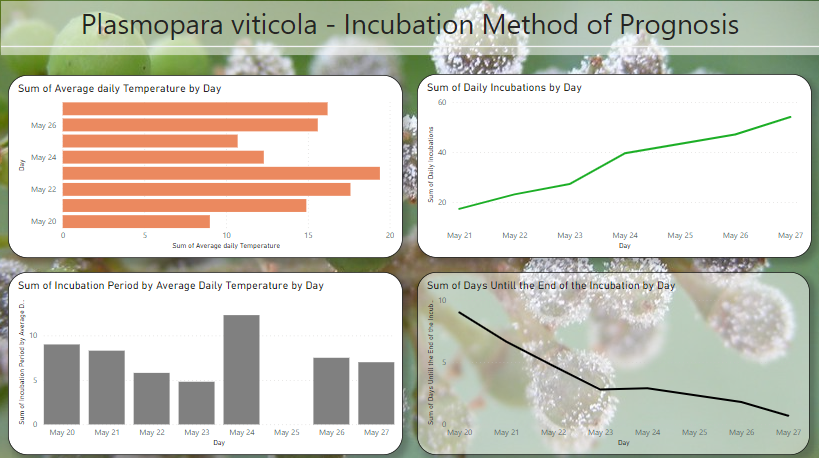

This screenshot's page, from the dashboard's own definition file:
{"tool":"powerbi","page":{"name":"Page 1","canvas":[1280,720],"ordinal":0},"visuals":[{"type":"columnChart","fields":{"Category":["Plasmopara viticola.Day"],"Y":["Sum(Plasmopara viticola.Incubation Period by Average Daily Temperature)"]},"box":[21.7,390,606.7,311.7],"z":5000},{"type":"lineChart","fields":{"Category":["Plasmopara viticola.Day"],"Y":["Sum(Plasmopara viticola.Days Untill the End of the Incubation)"]},"box":[655.5,390.5,606.3,312.7],"z":6000},{"type":"barChart","fields":{"Category":["Plasmopara viticola.Day"],"Y":["Sum(Plasmopara viticola.Average daily Temperature)"]},"box":[21,78.6,606.4,281.4],"z":7000},{"type":"lineChart","fields":{"Category":["Plasmopara viticola.Day"],"Y":["Sum(Plasmopara viticola.Sum of Daily Incubations)"]},"box":[653.3,78.3,608.3,281.7],"z":9000},{"type":"textbox","box":[0,1.7,1279.2,61.2],"z":15000},{"type":"shape","box":[10,70,626.7,300],"z":15002},{"type":"shape","box":[643.3,70,628.3,301.7],"z":15003},{"type":"shape","box":[11.7,380,625,331.7],"z":15004},{"type":"shape","box":[645,380,626.7,331.7],"z":15005}]}

Visuals, with their boxes in screenshot pixels (x1, y1, x2, y2), scaled from the page's 1280x720 canvas onto the 819x458 screenshot:
columnChart - Plasmopara viticola.Day x Sum(Plasmopara viticola.Incubation Period by Average Daily Temperature): (x1=14, y1=248, x2=402, y2=446)
lineChart - Plasmopara viticola.Day x Sum(Plasmopara viticola.Days Untill the End of the Incubation): (x1=419, y1=248, x2=807, y2=447)
barChart - Plasmopara viticola.Day x Sum(Plasmopara viticola.Average daily Temperature): (x1=13, y1=50, x2=401, y2=229)
lineChart - Plasmopara viticola.Day x Sum(Plasmopara viticola.Sum of Daily Incubations): (x1=418, y1=50, x2=807, y2=229)
textbox: (x1=0, y1=1, x2=818, y2=40)
shape: (x1=6, y1=45, x2=407, y2=235)
shape: (x1=412, y1=45, x2=814, y2=236)
shape: (x1=7, y1=242, x2=407, y2=453)
shape: (x1=413, y1=242, x2=814, y2=453)
